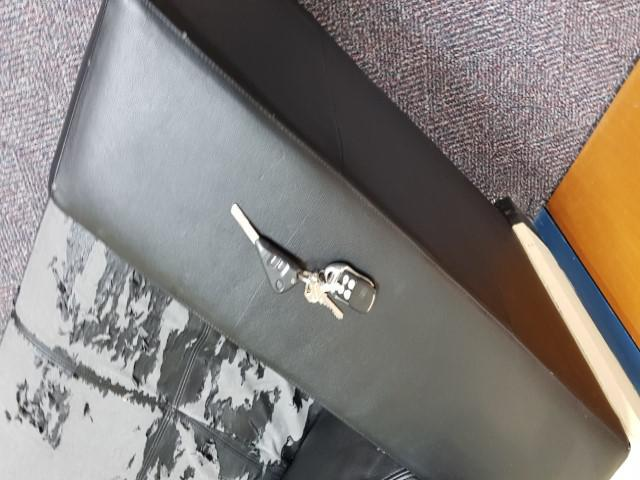key: (229, 203, 305, 296)
